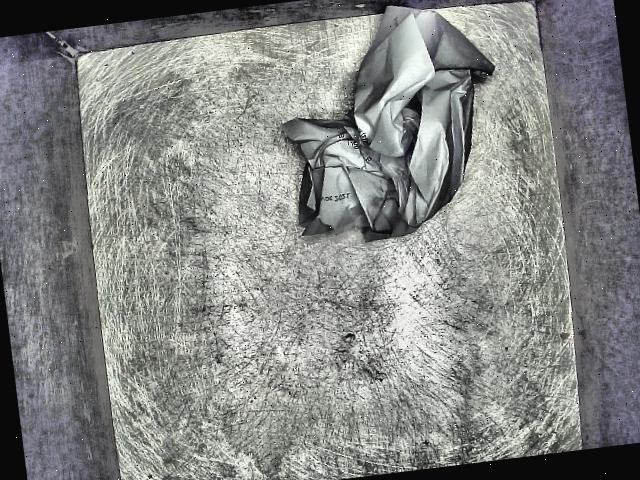Paper: (263, 0, 521, 281)
